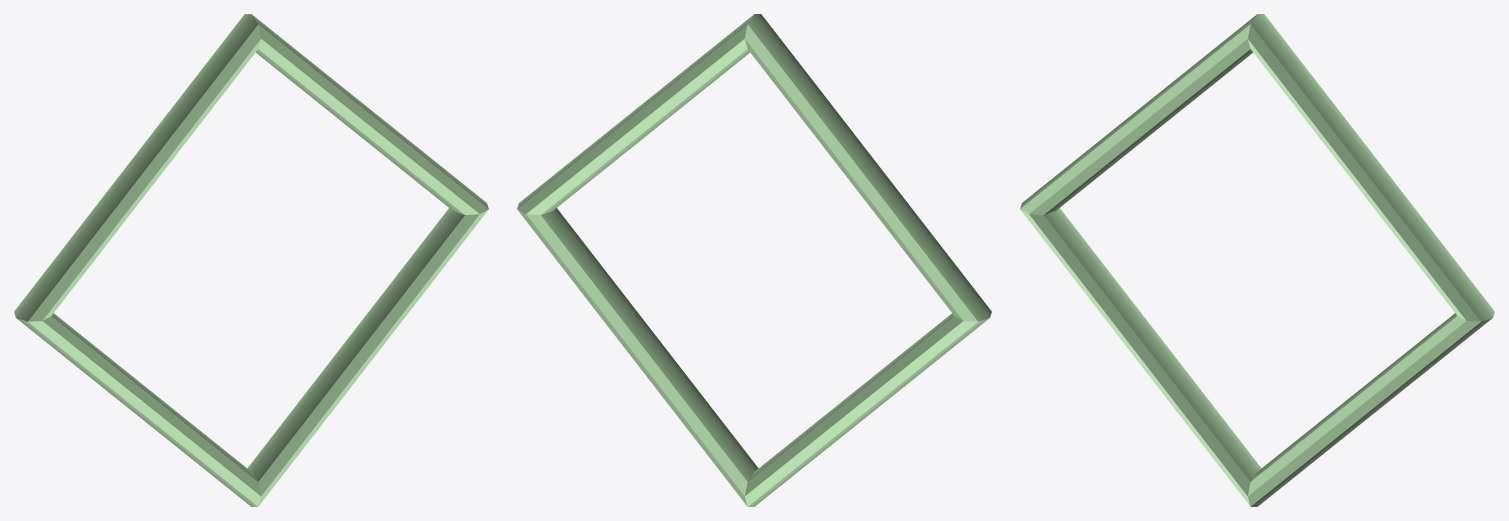
Rendered from forma1.obj.
3 views of the same model, side by side, from view 1: azimuth 30°, elevation 25°; view 2: azimuth 150°, elevation 25°; view 3: azimuth 330°, elevation 25° (orthographic).
Parts seen in each view (by area): view 1: Torus; view 2: Torus; view 3: Torus.
Boxes of the visible parts, box(x1,y1,x2,y2) form: Torus: box(14, 14, 488, 506); Torus: box(517, 14, 991, 506); Torus: box(1020, 14, 1494, 506).
Bounding box in the file's own units: 28 × 28 × 2.
